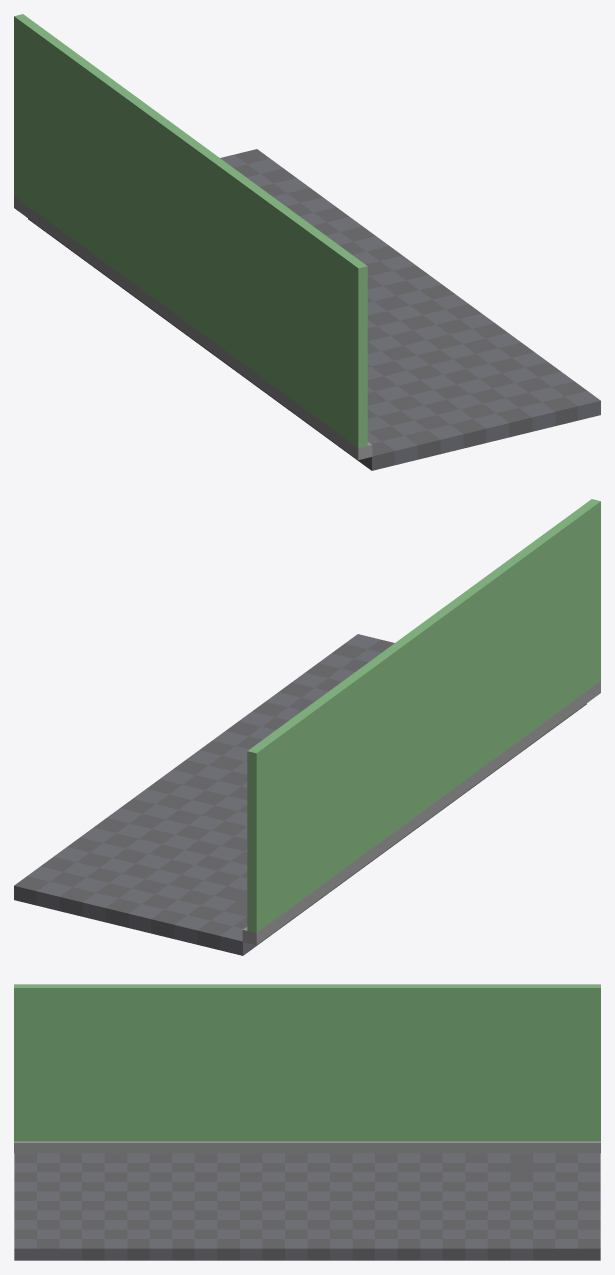
File: Background.fbx
3 views of the same model, one above another, from view 1: azimuth 30°, elevation 25°; view 2: azimuth 150°, elevation 25°; view 3: azimuth 270°, elevation 25° (orthographic). The views are drawn at different scales.
Visible parts, largest first — view 1: Cube.001, Cube.002; view 2: Cube.001, Cube.002; view 3: Cube.001, Cube.002.
Part boxes in pixels (box(x1,y1,x2,y2)): Cube.001: box(14, 14, 372, 459); Cube.002: box(28, 149, 600, 470); Cube.001: box(242, 499, 600, 944); Cube.002: box(14, 634, 586, 955); Cube.001: box(14, 984, 600, 1153); Cube.002: box(14, 1153, 600, 1260).
Bounding box in the file's own units: 1060 × 860 × 2604.
